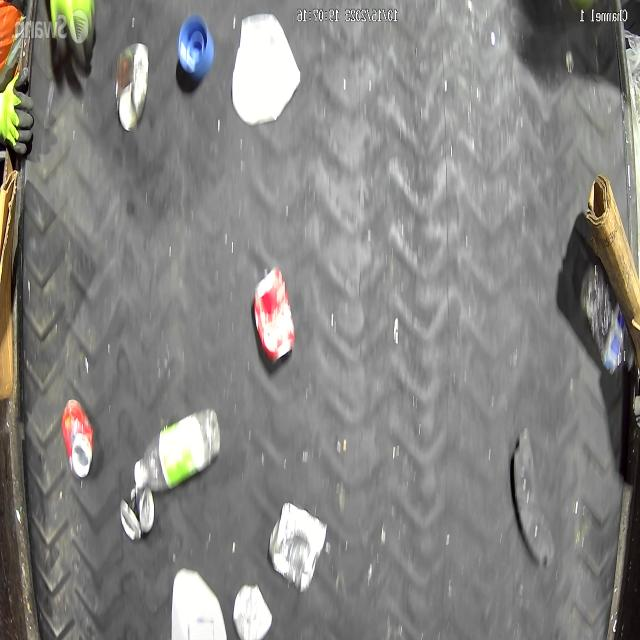can: (268, 499, 327, 592), (251, 264, 297, 368), (115, 42, 150, 134), (60, 396, 95, 481), (233, 582, 273, 640), (118, 483, 155, 542)
milk_jug: (171, 567, 228, 640)
plastic_bottle: (132, 405, 222, 496), (580, 261, 635, 376)
